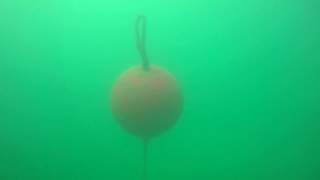buoy: (109, 65, 183, 139)
